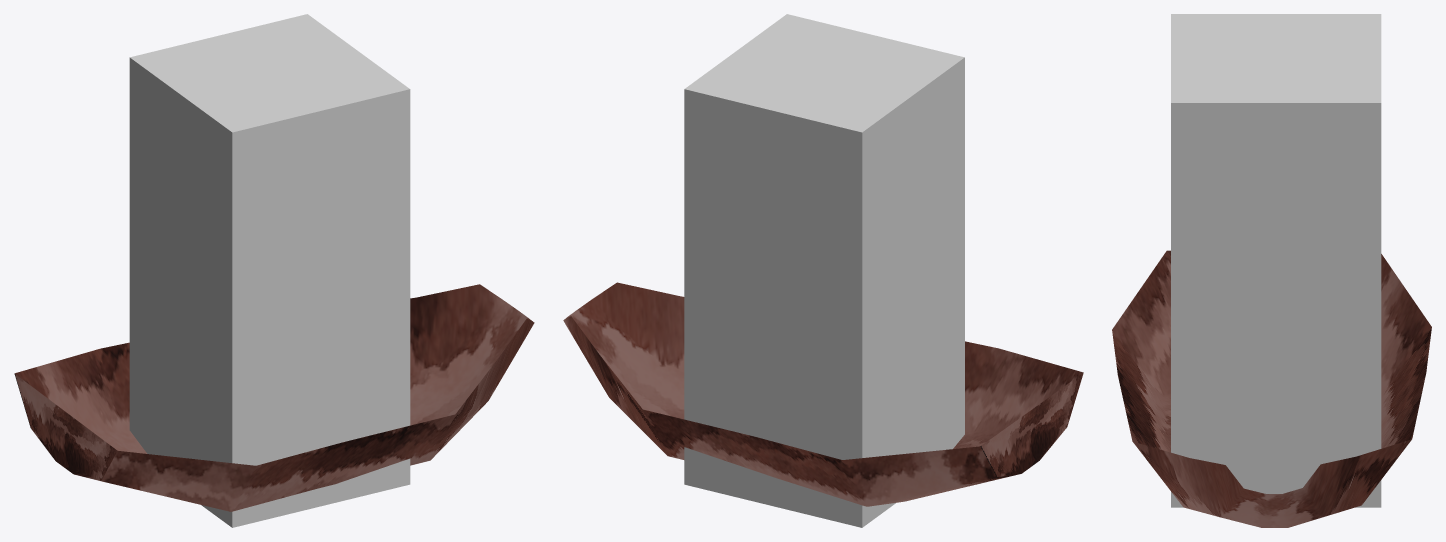
The model's file is boat.glb.
The picture shows the model from 3 angles, left to right: view 1: azimuth 30°, elevation 25°; view 2: azimuth 150°, elevation 25°; view 3: azimuth 270°, elevation 25°; orthographic projection. The views are drawn at different scales.
Visible parts, largest first — view 1: Cube, Plane; view 2: Cube, Plane; view 3: Cube, Plane.
Boxes of the visible parts, bbox=[...] form: Cube: bbox=[129, 14, 410, 527]; Plane: bbox=[14, 284, 534, 511]; Cube: bbox=[684, 14, 964, 527]; Plane: bbox=[563, 282, 1083, 506]; Cube: bbox=[1171, 14, 1381, 507]; Plane: bbox=[1112, 250, 1431, 527].
Bounding box in the file's own units: 2.06 × 1.71 × 1.22.
2 materials, 1 textured.
